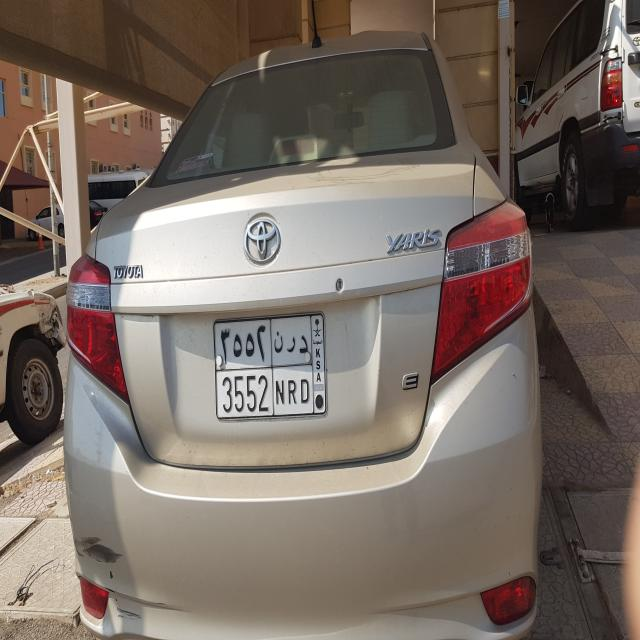license_plate: (212, 308, 329, 424)
